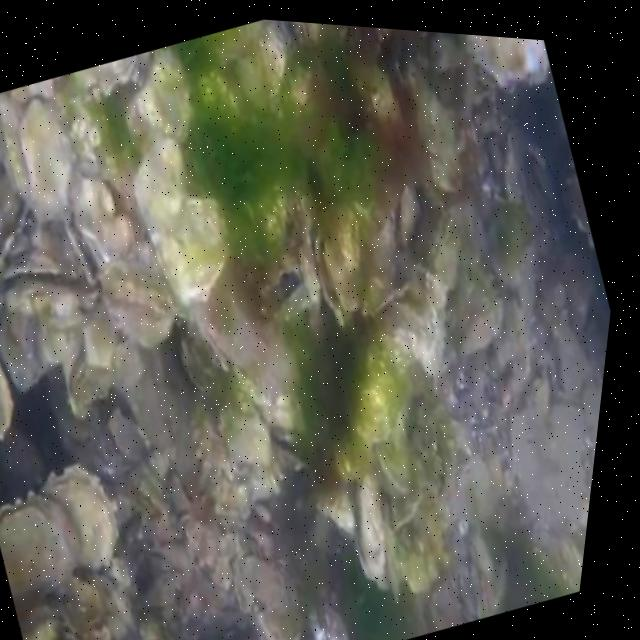Oyster-Closed: (42, 467, 121, 571), (103, 269, 174, 348), (465, 34, 551, 92), (235, 26, 288, 114), (354, 471, 387, 583), (307, 479, 360, 541), (71, 54, 139, 102), (422, 205, 458, 287), (377, 413, 414, 492), (298, 243, 322, 301)
Oyster-Indeterminate: (346, 324, 414, 440), (158, 196, 230, 300), (373, 282, 447, 375), (20, 98, 75, 219), (133, 139, 185, 243), (134, 56, 192, 139), (241, 554, 284, 610), (229, 418, 273, 465), (397, 187, 422, 249), (308, 604, 347, 640)
Oyster-Open: (0, 492, 78, 616), (67, 178, 136, 280), (317, 199, 363, 317), (262, 253, 307, 327), (64, 624, 84, 640)
